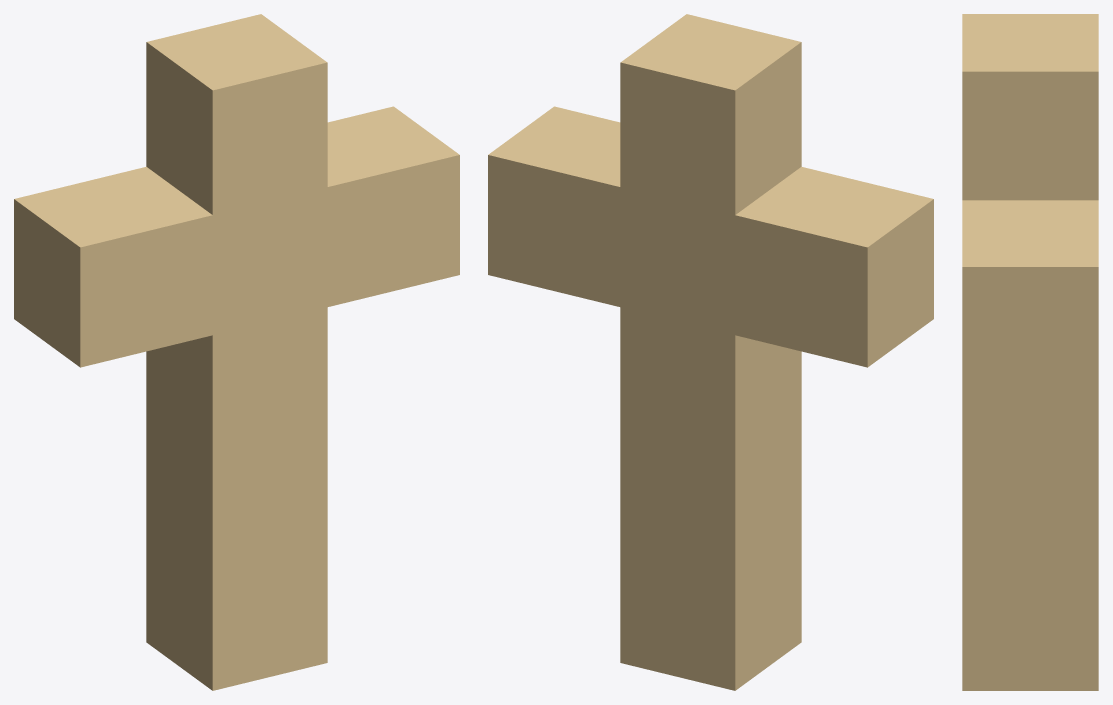
File: sample-cross.glb
The picture shows the model from 3 angles, left to right: view 1: azimuth 30°, elevation 25°; view 2: azimuth 150°, elevation 25°; view 3: azimuth 270°, elevation 25°; orthographic projection. The views are drawn at different scales.
Parts seen in each view (by area): view 1: Cross; view 2: Cross; view 3: Cross.
Boxes of the visible parts, <box> form: Cross: <box>14,14,459,690</box>; Cross: <box>488,14,933,690</box>; Cross: <box>962,14,1098,690</box>.
Bounding box in the file's own units: 0.86 × 1.3 × 0.26.
